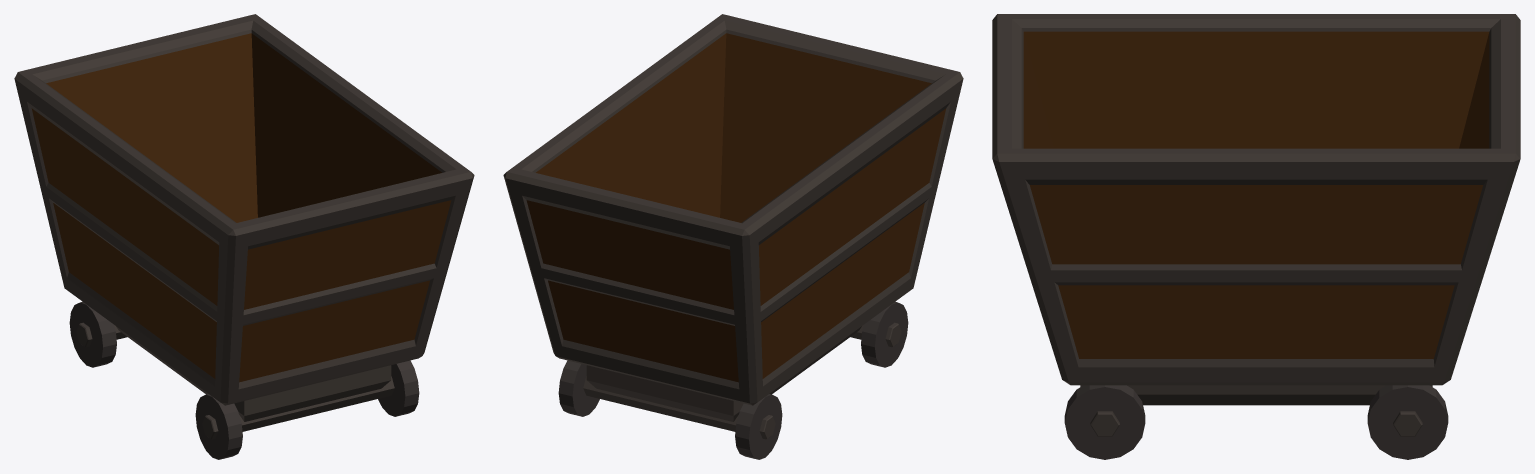
File: CarrinhoDeMinério.fbx
3 renders of one model, left to right at view 1: azimuth 30°, elevation 25°; view 2: azimuth 150°, elevation 25°; view 3: azimuth 270°, elevation 25°, orthographic. The views are drawn at different scales.
Visible parts, largest first — view 1: Cube, Cylinder.001, Cube.001, Cylinder; view 2: Cube, Cylinder.001, Cube.001, Cylinder; view 3: Cube, Cylinder.001, Cube.001, Cylinder.
Boxes of the visible parts, left/top/right/bottom form: Cube: left=14, top=14, right=474, bottom=405; Cylinder.001: left=69, top=301, right=419, bottom=459; Cube.001: left=116, top=326, right=391, bottom=421; Cylinder: left=76, top=322, right=394, bottom=439; Cube: left=503, top=14, right=963, bottom=405; Cylinder.001: left=558, top=301, right=908, bottom=459; Cube.001: left=586, top=326, right=861, bottom=421; Cylinder: left=583, top=322, right=901, bottom=439; Cube: left=992, top=14, right=1520, bottom=385; Cylinder.001: left=1064, top=385, right=1448, bottom=459; Cube.001: left=1080, top=385, right=1432, bottom=405; Cylinder: left=1090, top=411, right=1422, bottom=436.
Bounding box in the file's own units: 2.73 × 2.82 × 4.22.
